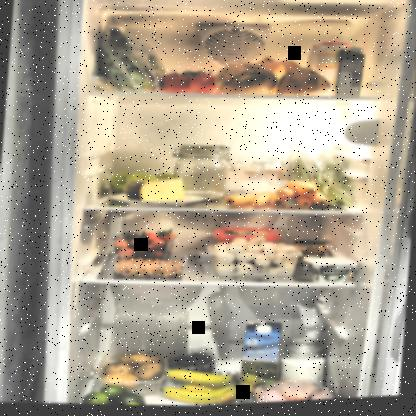apple: (106, 170, 187, 202)
banana: (168, 363, 256, 408)
blueberries: (169, 350, 217, 377)
butter: (212, 225, 282, 256)
carrot: (272, 179, 330, 217), (221, 193, 272, 214)
cheese: (125, 175, 187, 206)
chicken: (250, 374, 349, 405)
corn: (293, 243, 327, 270)
green_beans: (275, 140, 361, 219)
heavy_cream: (333, 48, 369, 105)
lime: (80, 382, 152, 408)
milk: (239, 322, 288, 398)
mushrooms: (205, 233, 299, 285)
onion: (250, 56, 305, 84)
potato: (101, 346, 168, 394)
shrimp: (111, 255, 188, 282)
spinach: (89, 14, 173, 102)
strawberries: (112, 226, 181, 263)
sweet_potato: (209, 59, 338, 107)
tomato: (156, 67, 229, 99)
